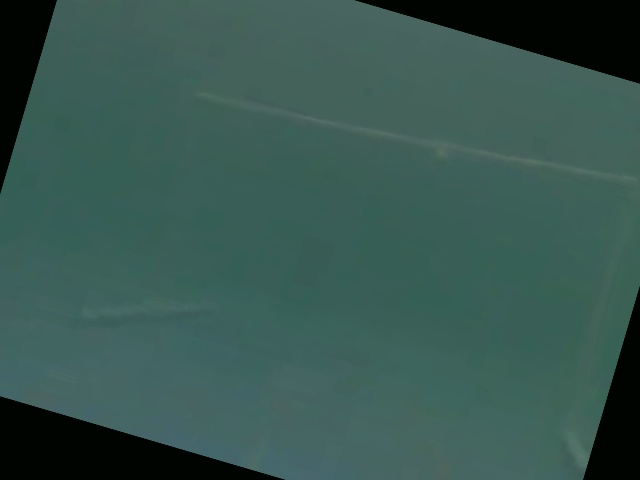gate: (67, 79, 640, 480)
